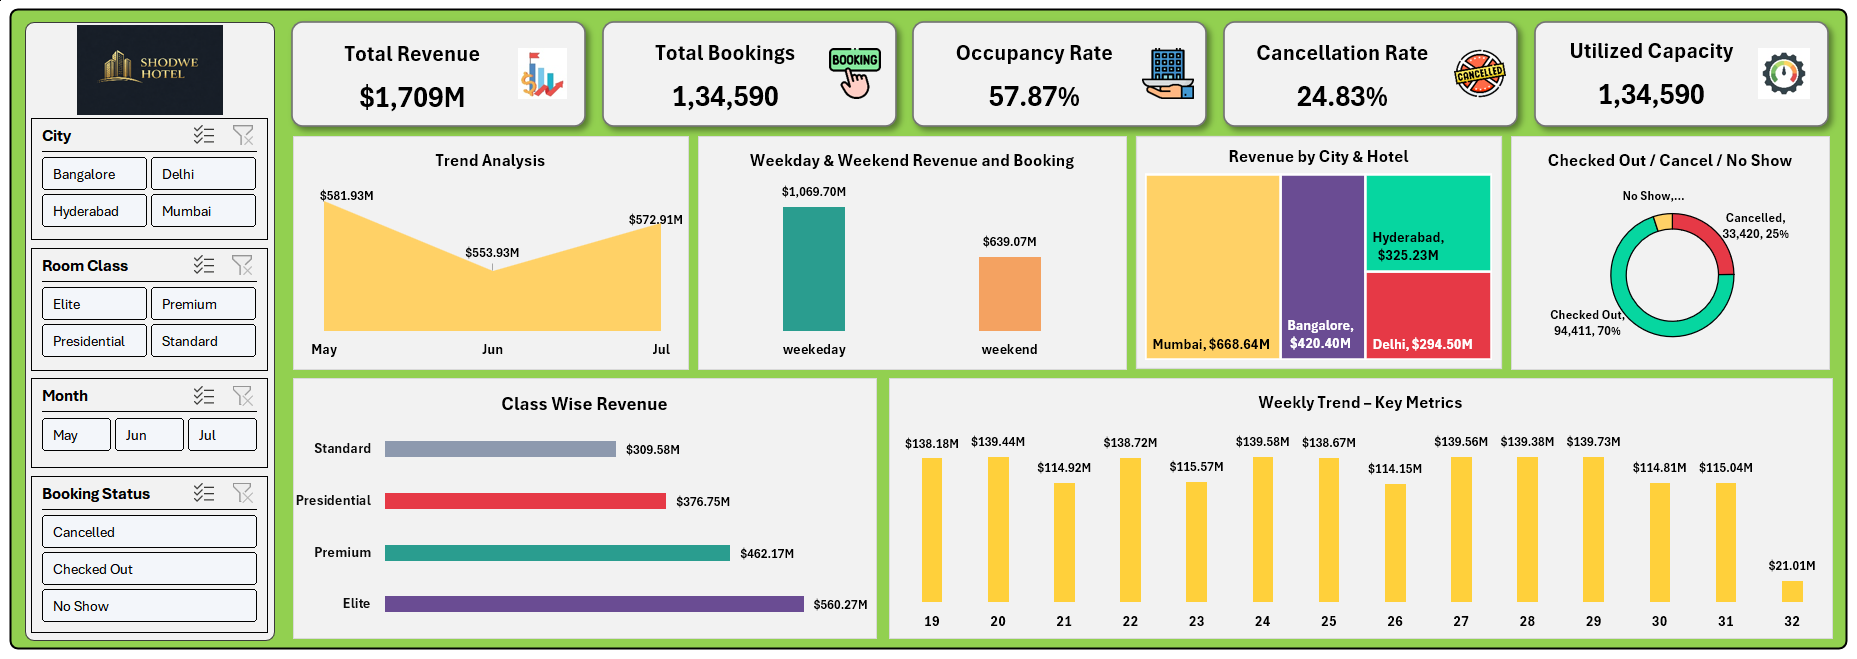

The page's visual inventory and layout, read from the dashboard file:
{"tool":"tableau","page":{"name":"Dashboard","canvas":[1250,680],"ordinal":0},"visuals":[{"type":"image","param":"Image/Title Image.png","box":[49,3,833,88]},{"type":"image","param":"Image/SHODWE HOTEL.png","box":[993,7,210,113]},{"type":"text","box":[50,21,831,51]},{"type":"worksheet","title":"1","mark":"Automatic","box":[6,95,177,70]},{"type":"worksheet","title":"2","mark":"Automatic","box":[190,95,180,70]},{"type":"worksheet","title":"3","mark":"Automatic","box":[377,95,180,70]},{"type":"worksheet","title":"5","mark":"Automatic","box":[754,95,180,70]},{"type":"worksheet","title":"4","mark":"Automatic","box":[563,96,180,70]},{"type":"worksheet","title":"8","mark":"Square","rows":["property_name","city"],"box":[941,128,312,547]},{"type":"worksheet","title":"10","mark":"Automatic","box":[6,170,327,217]},{"type":"worksheet","title":"6","mark":"Area","rows":["revenue_realized"],"cols":["check_in_date"],"box":[338,170,340,185]},{"type":"worksheet","title":"7","mark":"Automatic","rows":["booking_id","booking_id"],"cols":["day_type"],"box":[685,170,250,185]},{"type":"worksheet","title":"11","mark":"Automatic","rows":["revenue_realized","revenue_realized"],"cols":["week no"],"box":[339,360,597,315]},{"type":"worksheet","title":"9","mark":"Pie","rows":["Calculation_0478381838295051","Calculation_0478381838295051"],"box":[6,392,327,283]}]}

Visuals, with their boxes on the page's 1250x680 design canvas (x1, y1, x2, y2). These are canvas units, not pixel positions in the 1857x659 screenshot, which may show the page scaled, cropped or inside an application window:
image: bbox=[49, 3, 882, 91]
image: bbox=[993, 7, 1203, 120]
text: bbox=[50, 21, 881, 72]
"1" worksheet: bbox=[6, 95, 183, 165]
"2" worksheet: bbox=[190, 95, 370, 165]
"3" worksheet: bbox=[377, 95, 557, 165]
"5" worksheet: bbox=[754, 95, 934, 165]
"4" worksheet: bbox=[563, 96, 743, 166]
"8" worksheet (Square marks): bbox=[941, 128, 1253, 675]
"10" worksheet: bbox=[6, 170, 333, 387]
"6" worksheet (Area marks): bbox=[338, 170, 678, 355]
"7" worksheet: bbox=[685, 170, 935, 355]
"11" worksheet: bbox=[339, 360, 936, 675]
"9" worksheet (Pie marks): bbox=[6, 392, 333, 675]
